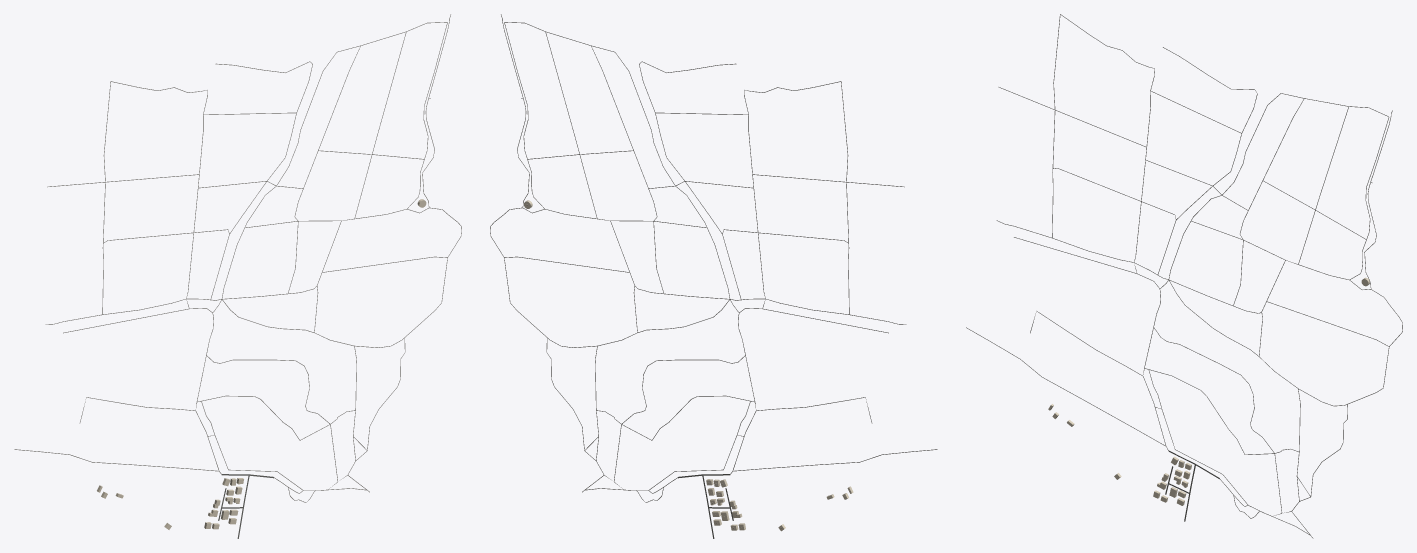
File: historic-palestine-07_28_3490_3221.glb
3 renders of one model, left to right at view 1: azimuth 30°, elevation 25°; view 2: azimuth 150°, elevation 25°; view 3: azimuth 330°, elevation 25°, orthographic. The views are drawn at different scales.
Bounding box in the file's own units: 1153 × 1203 × 8.7.
